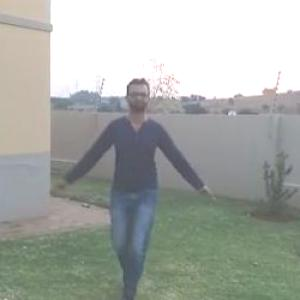land: (76, 89, 193, 293)
